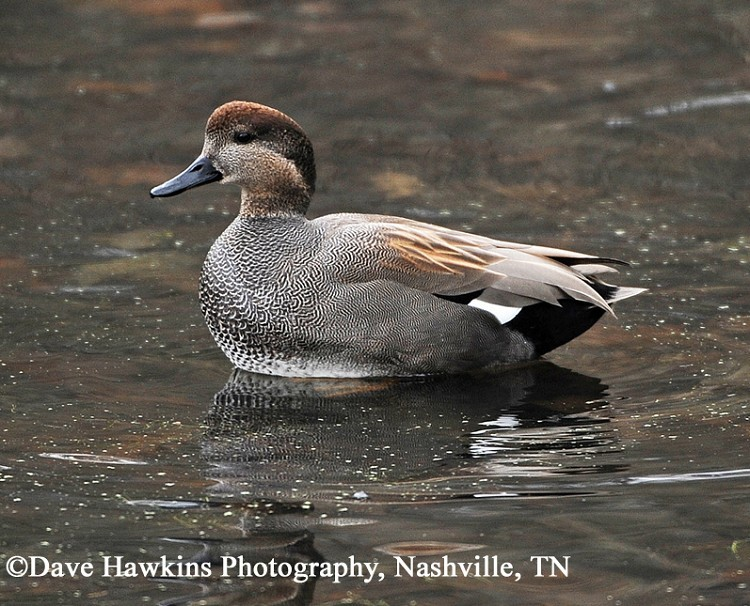bird: (184, 113, 607, 386)
